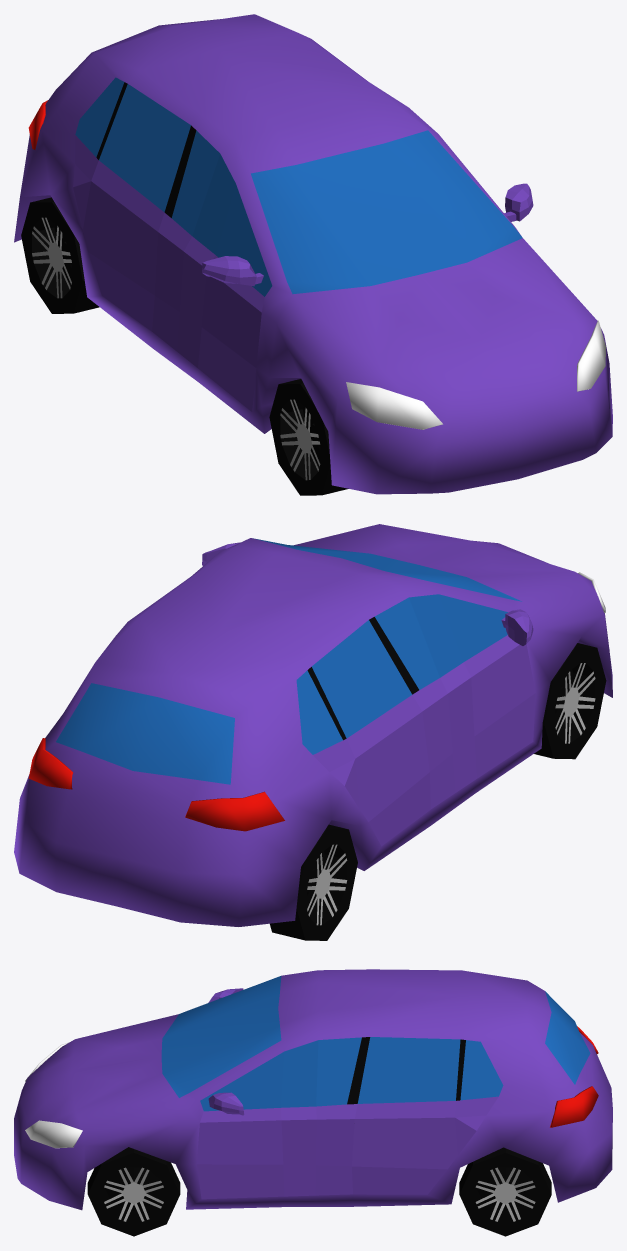
File: car_1.glb
3 views of the same model, one above another, from view 1: azimuth 30°, elevation 25°; view 2: azimuth 150°, elevation 25°; view 3: azimuth 270°, elevation 25° (orthographic). The views are drawn at different scales.
Visible parts, largest first — view 1: Car, FronDoor.R, BackDoor.L.001, RearWheel.R, FrontWheel.R, FronDoor.L; view 2: Car, FronDoor.R, BackDoor.L.001, RearWheel.R, FrontWheel.R; view 3: Car, FronDoor.L, BackDoor.L, RearWheel.L, FrontWheel.L.
Part boxes in pixels (box(x1,y1,x2,y2)): Car: box(14, 14, 612, 494); FronDoor.R: box(152, 125, 272, 411); BackDoor.L.001: box(73, 77, 190, 331); RearWheel.R: box(21, 197, 99, 313); FrontWheel.R: box(269, 379, 348, 495); FronDoor.L: box(504, 183, 533, 221); Car: box(14, 524, 612, 926); FronDoor.R: box(369, 594, 535, 809); BackDoor.L.001: box(296, 620, 430, 846); RearWheel.R: box(270, 824, 357, 940); FrontWheel.R: box(534, 643, 606, 759); Car: box(14, 969, 612, 1210); FronDoor.L: box(196, 1037, 370, 1199); BackDoor.L: box(351, 1037, 503, 1194); RearWheel.L: box(459, 1147, 551, 1236); FrontWheel.L: box(87, 1147, 180, 1236).
Size of the model in its own units: 1 by 0.7437 by 2.13.
